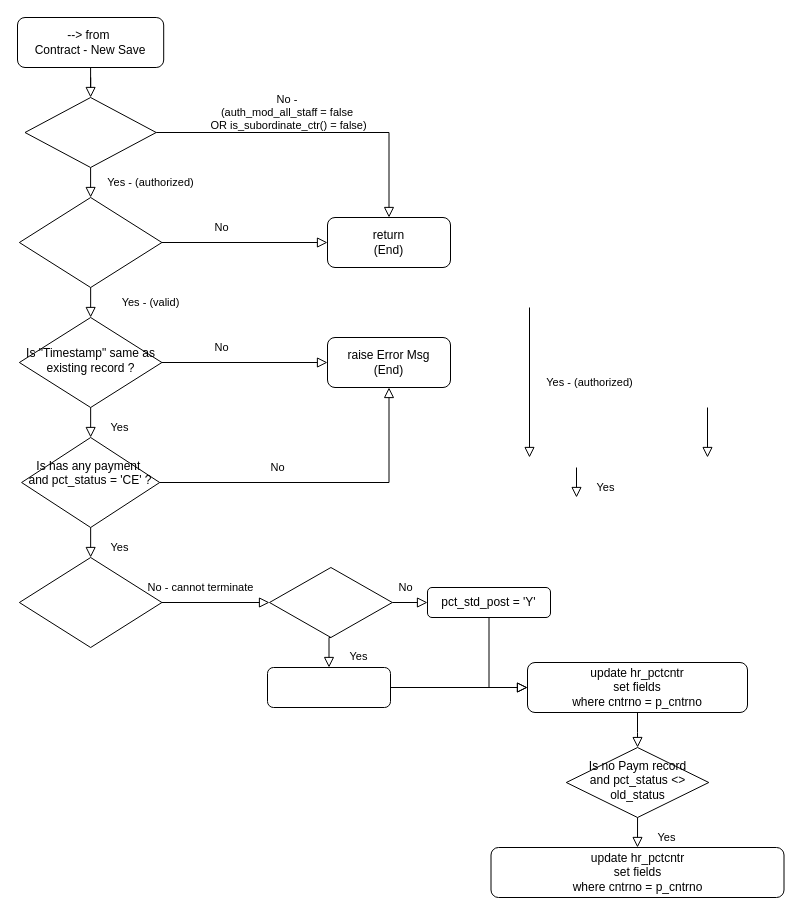
Some shapes in this 802 by 915 pixel diagram are drawn without their labels. Here are the shapes that lost their labels. From the top down, the centre of each, then its label:
point 90,132: Is auth_mod_ptcntr ?
point 90,242: pkg_validation. validation(p_mode, p_rec)
point 90,602: Can "Terminate" this contract ? (pct_status = pyrl_cmpl and is_pttx_owner?)
point 330,602: is Std PayRate ?
point 328,687: pct_std_post = 'N'
